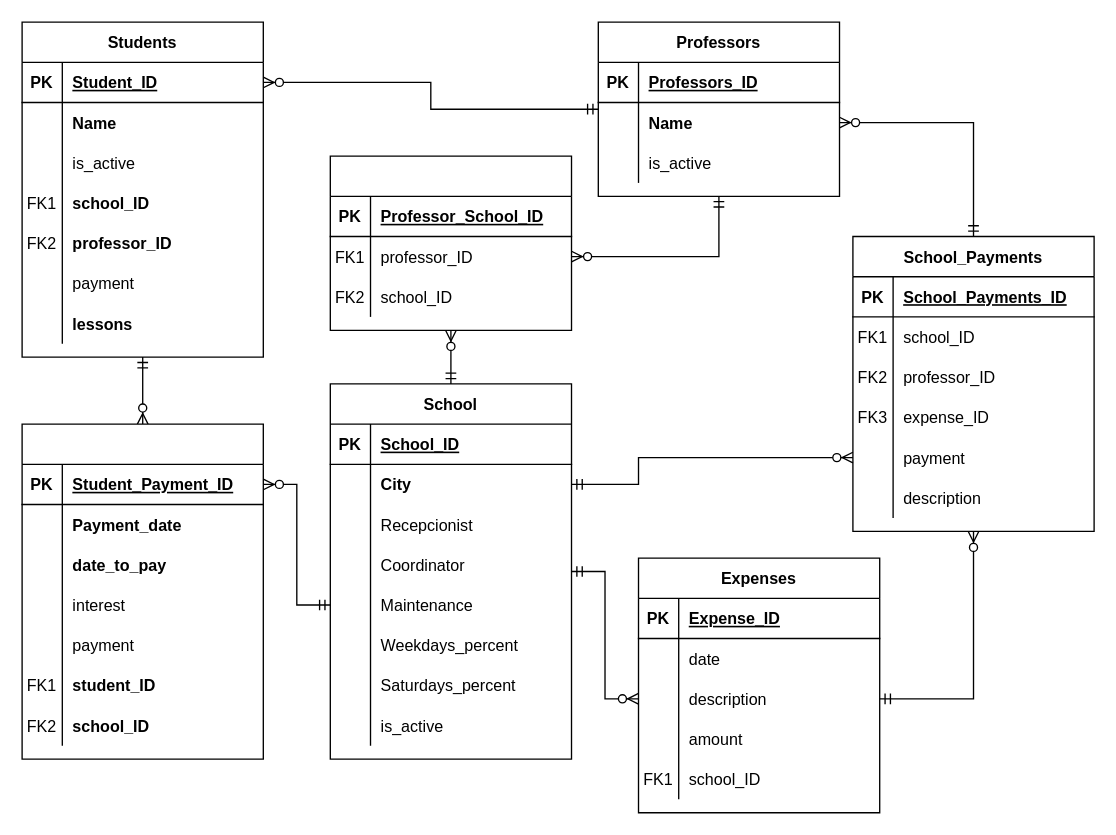
The diagram is 1116 pixels wide and 835 high, and some of its shapes have lost their labels. Each missing label, with the box of its shape:
Professors_Schools: (329, 155, 572, 330)
Student_Payments: (21, 423, 263, 759)
